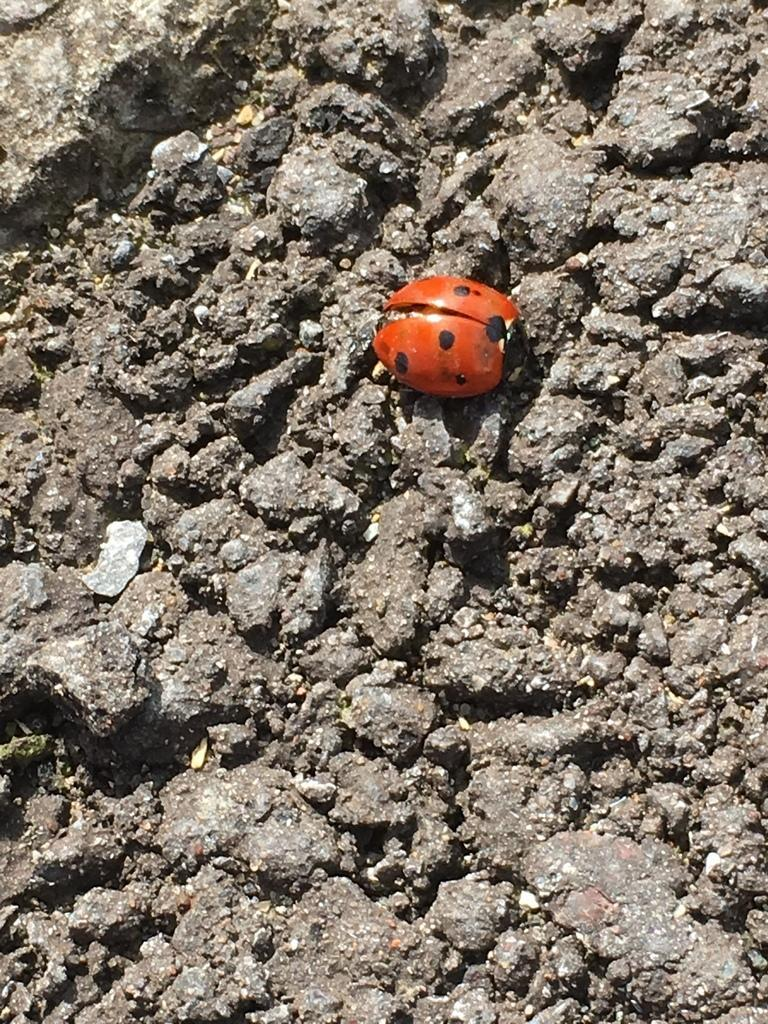ladybug: (371, 272, 535, 401)
